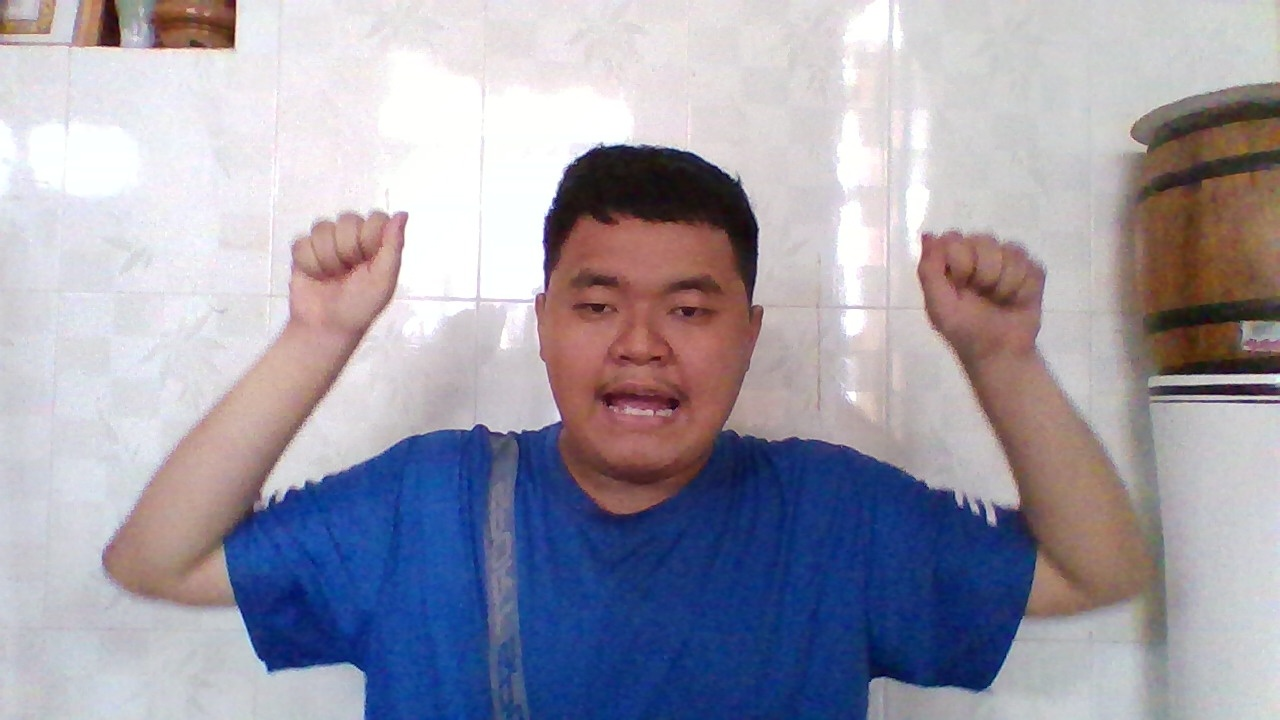A: (910, 222, 1050, 363), (286, 197, 417, 343)
